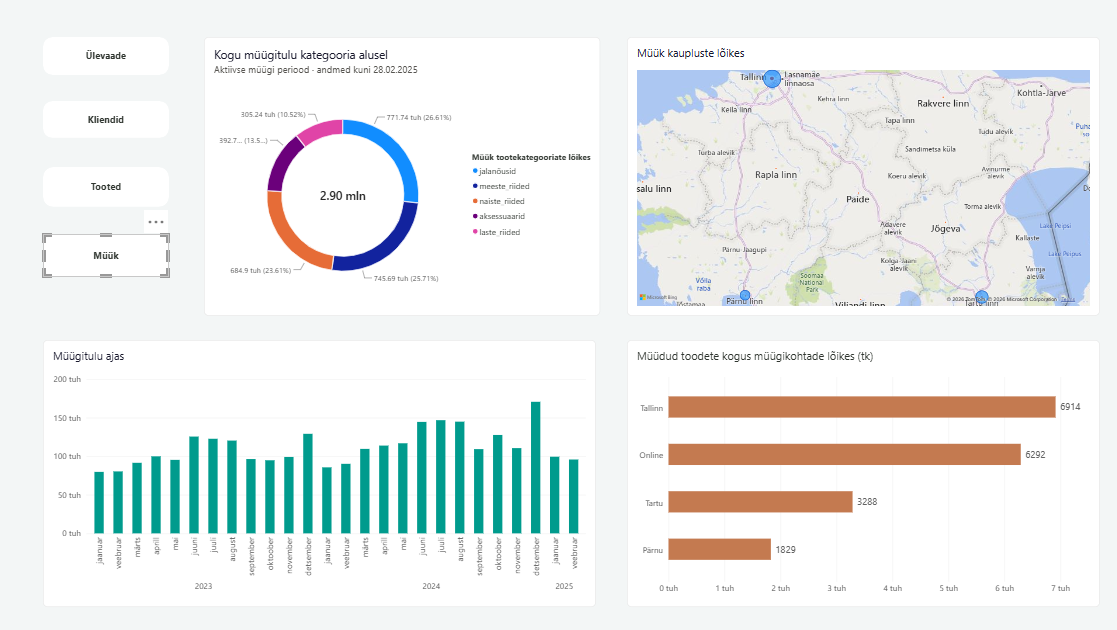

The dashboard page shown, as its layout file describes it:
{"tool":"powerbi","page":{"name":"week 10","canvas":[1920,1080],"ordinal":0},"visuals":[{"type":"textbox","box":[62.5,85,412.5,87.5],"z":0},{"type":"map","title":"Müük kaupluste lõikes","fields":{"Category":["public sales.store_location"],"Size":["public sales.Kogu müügitulu"]},"box":[1074.7,63.3,809.4,477.4],"z":1000},{"type":"donutChart","title":"Kogu müügitulu kategooria alusel","fields":{"Category":["public products.category"],"Y":["public sales.Kogu müügitulu"]},"box":[350.8,63.3,678,477.4],"z":2000},{"type":"columnChart","title":"Müügitulu ajas","fields":{"Category":["public sales.sale_date.Variatsioon.Kuupäeva hierarhia.Aasta","public sales.sale_date.Variatsioon.Kuupäeva hierarhia.Kuu"],"Y":["public sales.Kogu müügitulu"]},"box":[75.3,581.8,946.3,456.9],"z":3000},{"type":"clusteredBarChart","title":"Müügitulu müügikohtade lõikes (€)","fields":{"Category":["public sales.Müügikoht"],"Y":["public sales.Kogu müügitulu"]},"box":[1074.7,581.8,807.7,458.6],"z":4000},{"type":"actionButton","box":[75.3,172.8,215.6,63.3],"z":6000},{"type":"actionButton","box":[75.3,285.8,215.6,68.4],"z":7000},{"type":"actionButton","box":[75.3,400.4,215.6,73.6],"z":8000},{"type":"actionButton","box":[75.3,63.3,215.6,65],"z":9000}]}

Visuals, with their boxes on the page's 1920x1080 design canvas (x1, y1, x2, y2). These are canvas units, not pixel positions in the 1117x630 screenshot, which may show the page scaled, cropped or inside an application window:
textbox: [62,85,475,172]
"Müük kaupluste lõikes" map: [1075,63,1884,541]
"Kogu müügitulu kategooria alusel" donutChart: [351,63,1029,541]
"Müügitulu ajas" columnChart: [75,582,1022,1039]
"Müügitulu müügikohtade lõikes (€)" clusteredBarChart: [1075,582,1882,1040]
actionButton: [75,173,291,236]
actionButton: [75,286,291,354]
actionButton: [75,400,291,474]
actionButton: [75,63,291,128]
